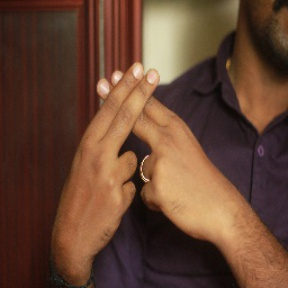F: (61, 55, 213, 191)
